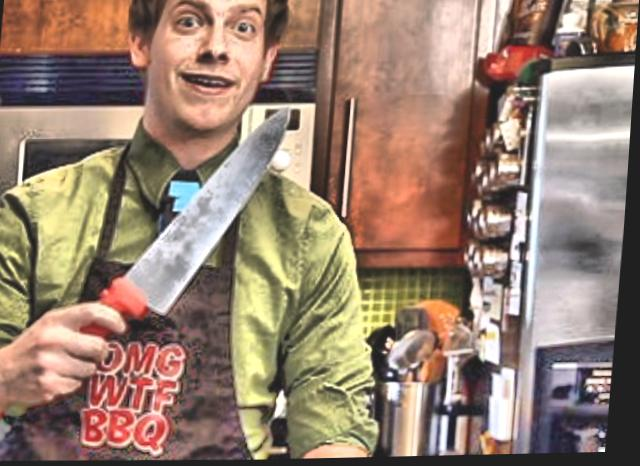knife: (44, 92, 299, 379)
